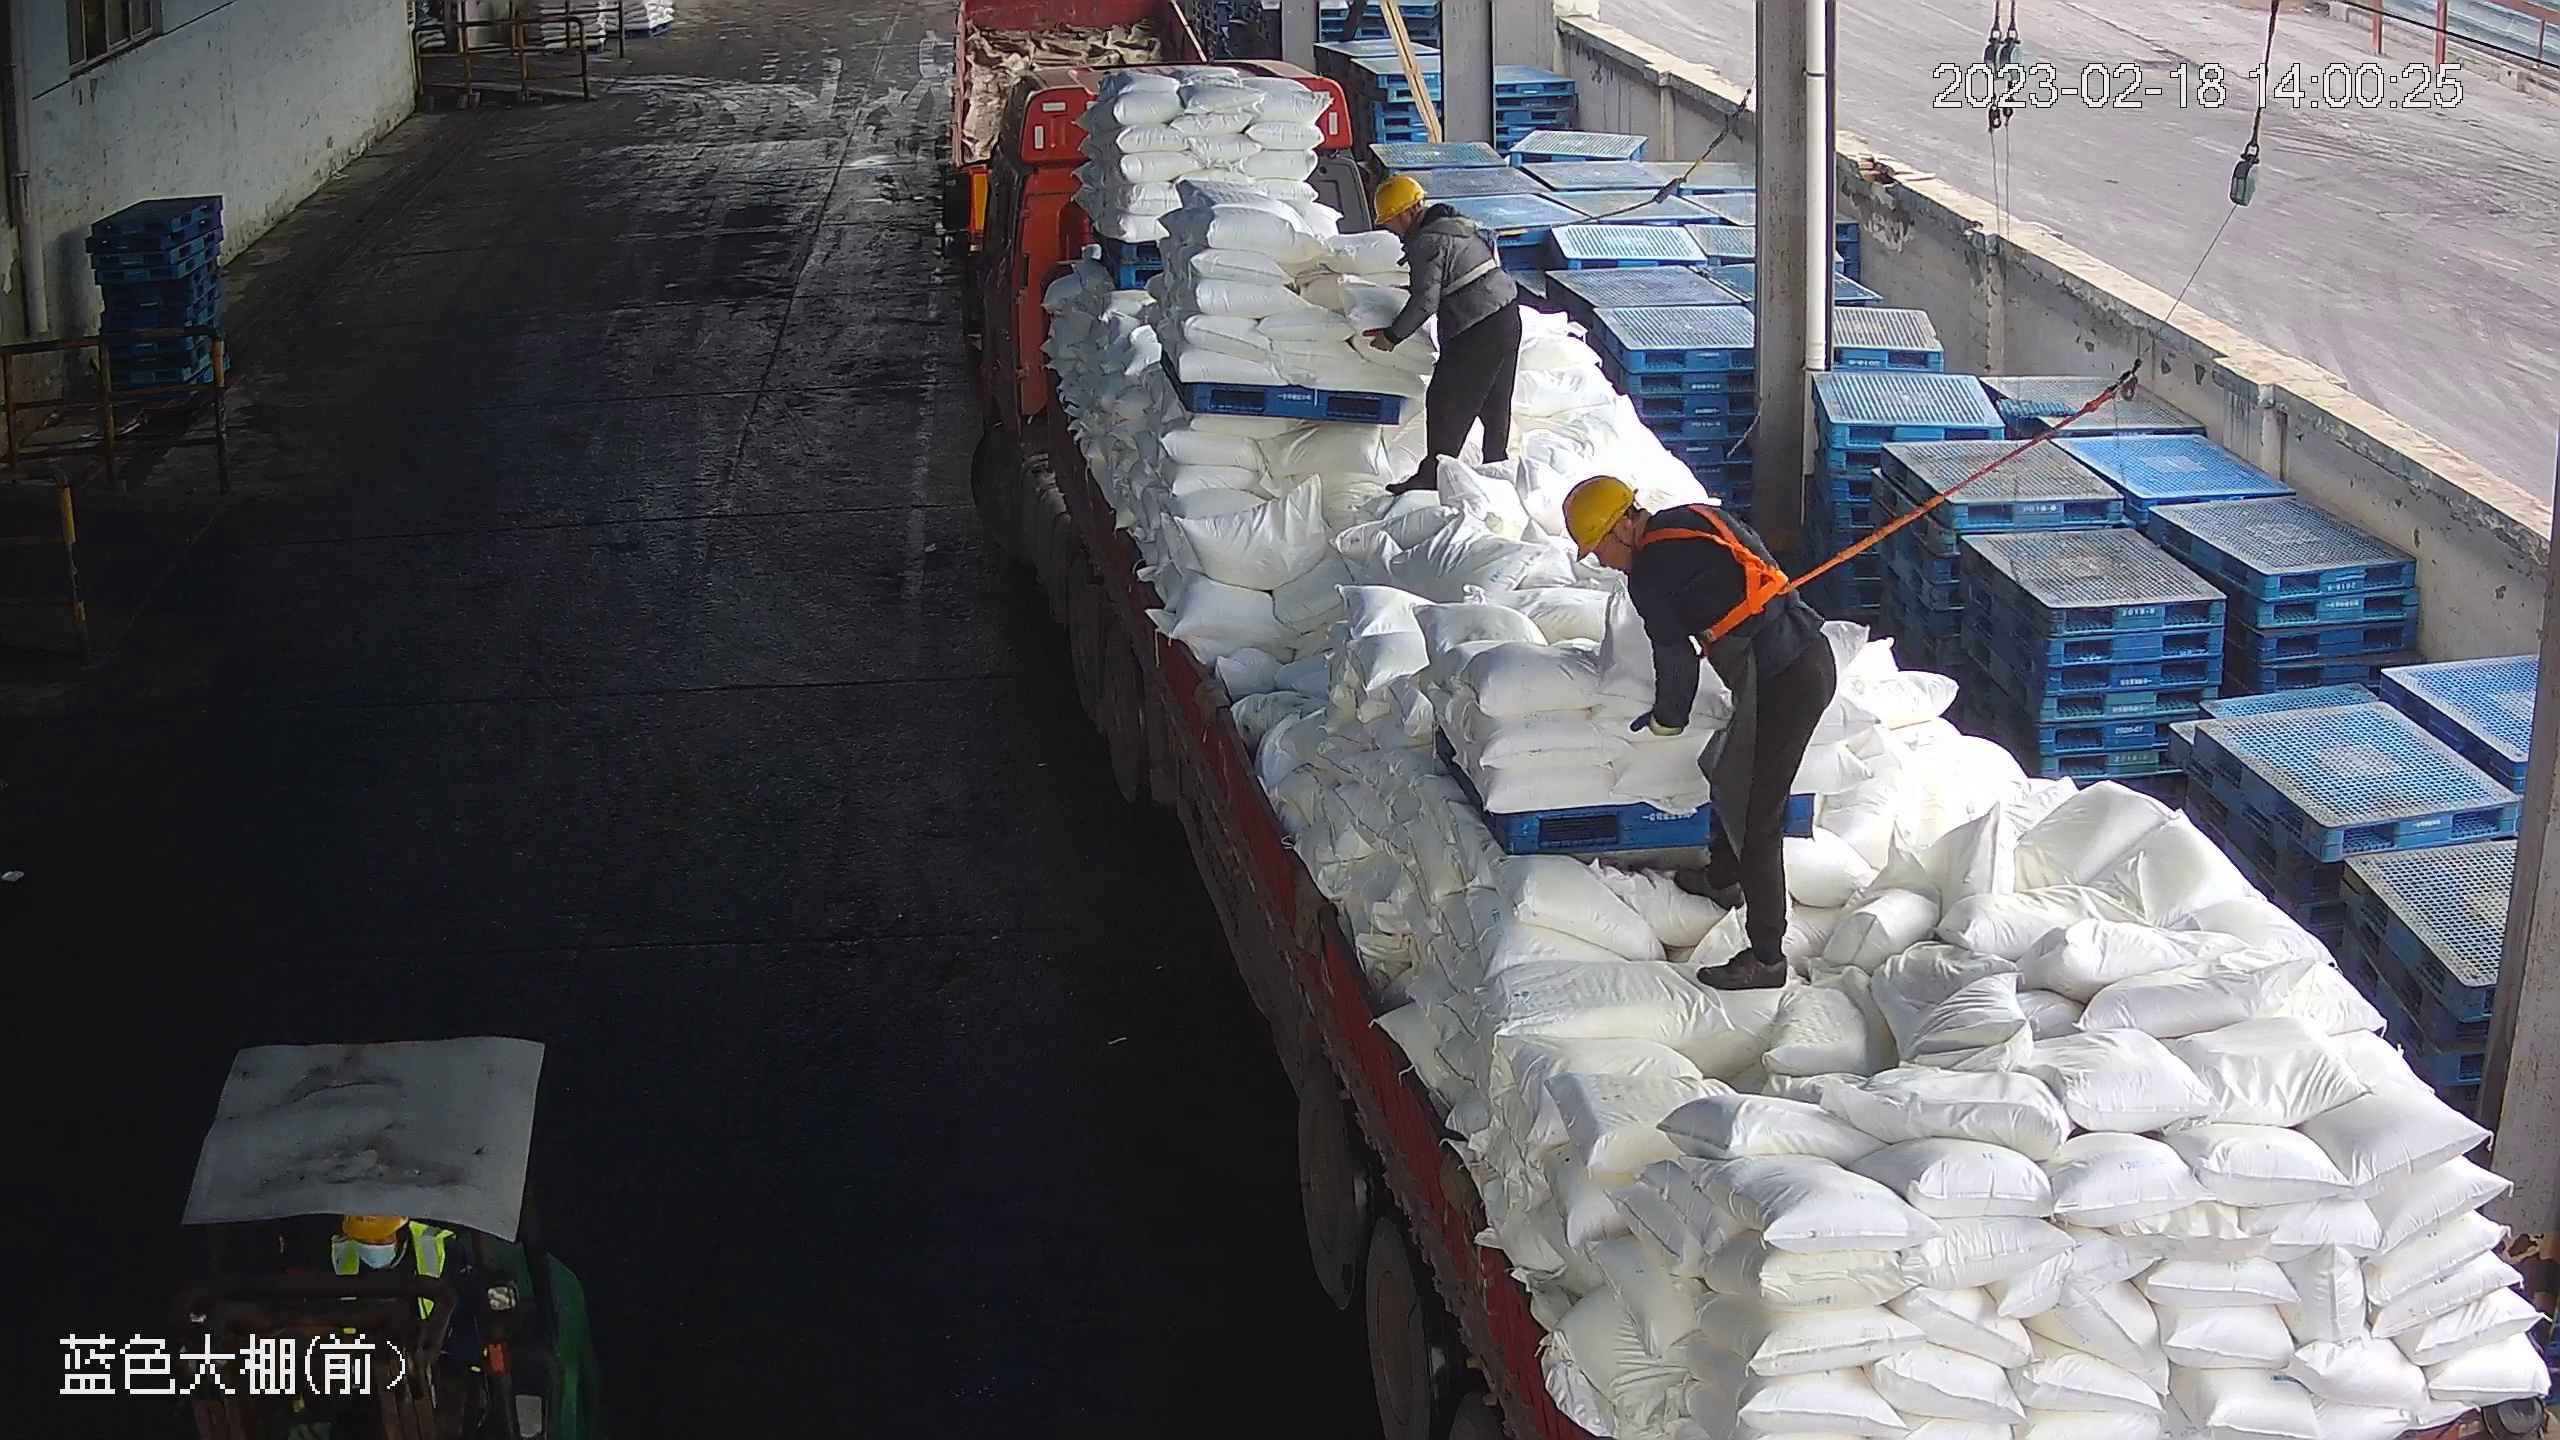belt: (1648, 505, 1803, 646), (1419, 206, 1519, 296)
head: (1559, 474, 1733, 608), (1370, 172, 1482, 262)
helmet: (1561, 473, 1639, 555), (1369, 172, 1425, 224)
people: (1563, 471, 1837, 992), (1360, 167, 1521, 494)
truck: (918, 58, 2560, 1420)
